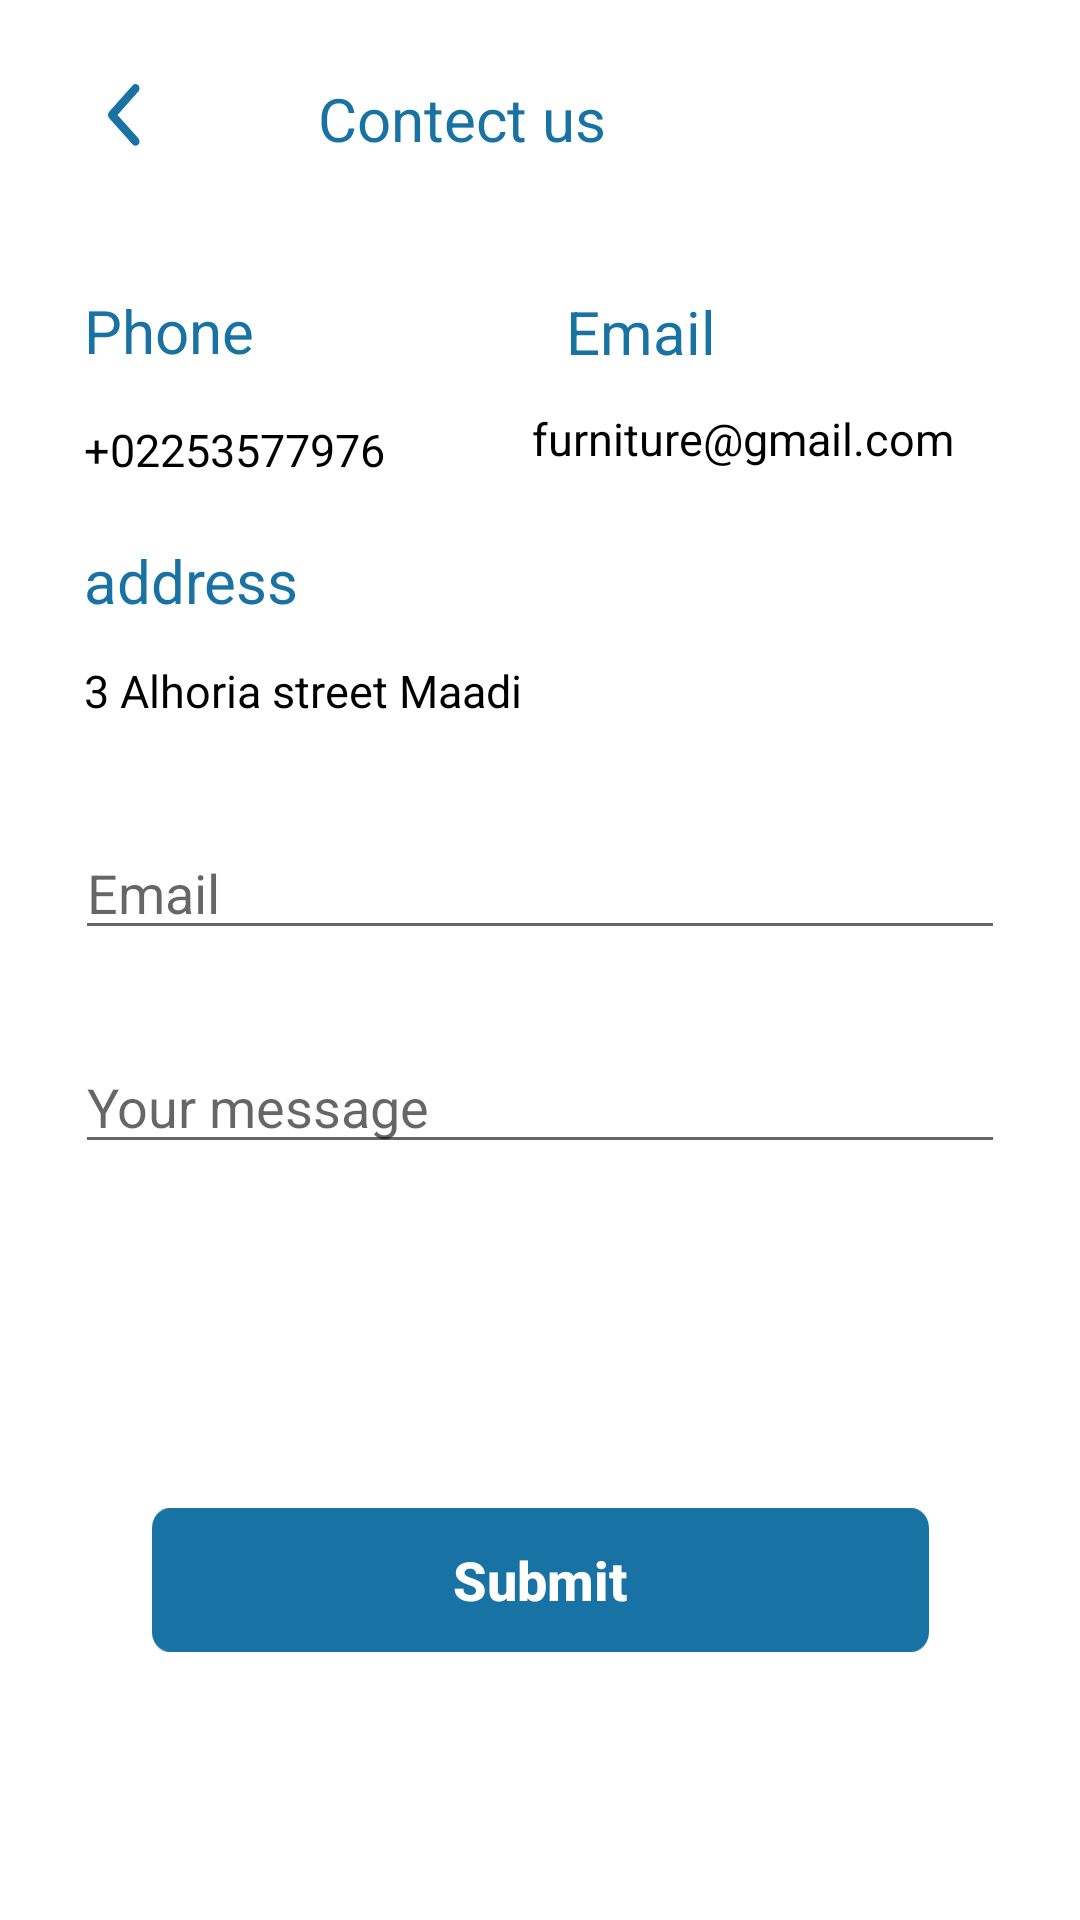

Icon bounding boxes for this 1080 × 1920 phone screenshot, format (x1, y1, x2, y2):
ionic arrow back: (108, 84, 140, 146)
